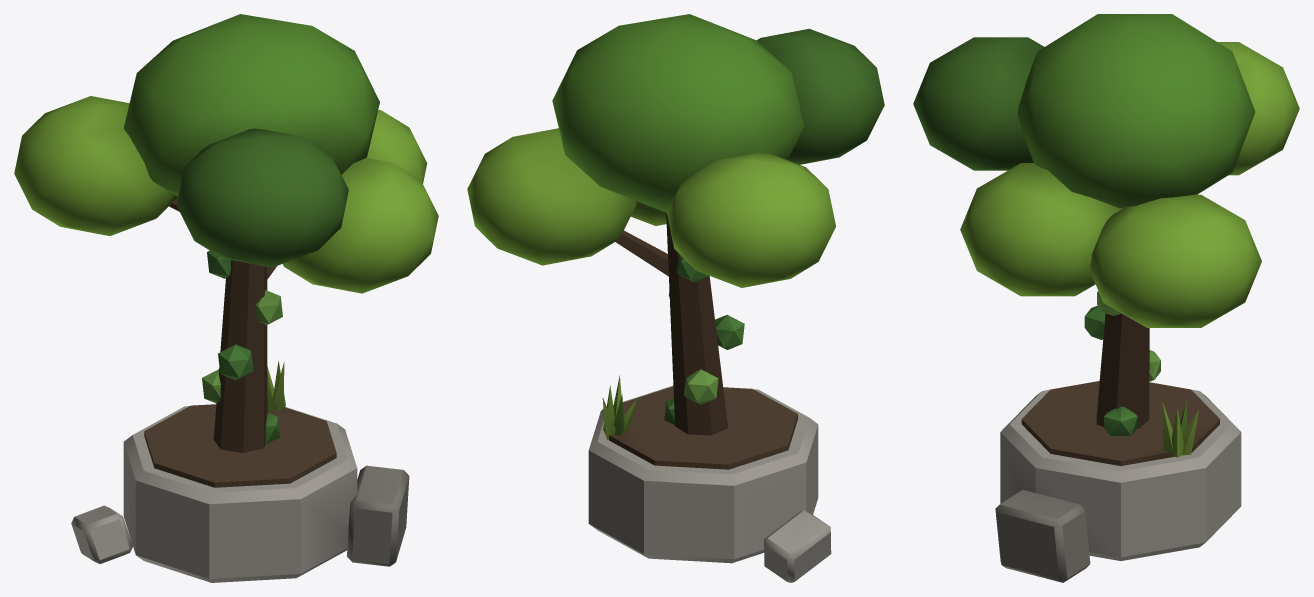
The model's file is p_tree_city_1.glb.
3 views of the same model, side by side, from view 1: azimuth 30°, elevation 25°; view 2: azimuth 150°, elevation 25°; view 3: azimuth 270°, elevation 25° (orthographic).
Visible parts, largest first — view 1: body; view 2: body; view 3: body.
Part boxes in pixels (x1,y1,x2,y2): body: [14, 14, 438, 582]; body: [467, 14, 884, 582]; body: [913, 14, 1299, 582].
Bounding box in the file's own units: 2.98 × 3.98 × 2.73.
